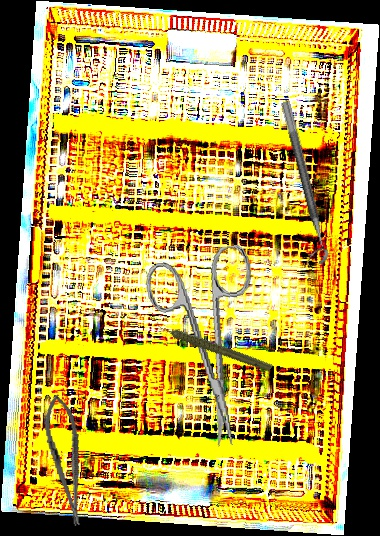Fixation Ring: (267, 100, 331, 268)
Handpiece: (154, 297, 274, 394)
Iris Scissors: (141, 243, 276, 454)
Needle Holder: (39, 392, 93, 529)
